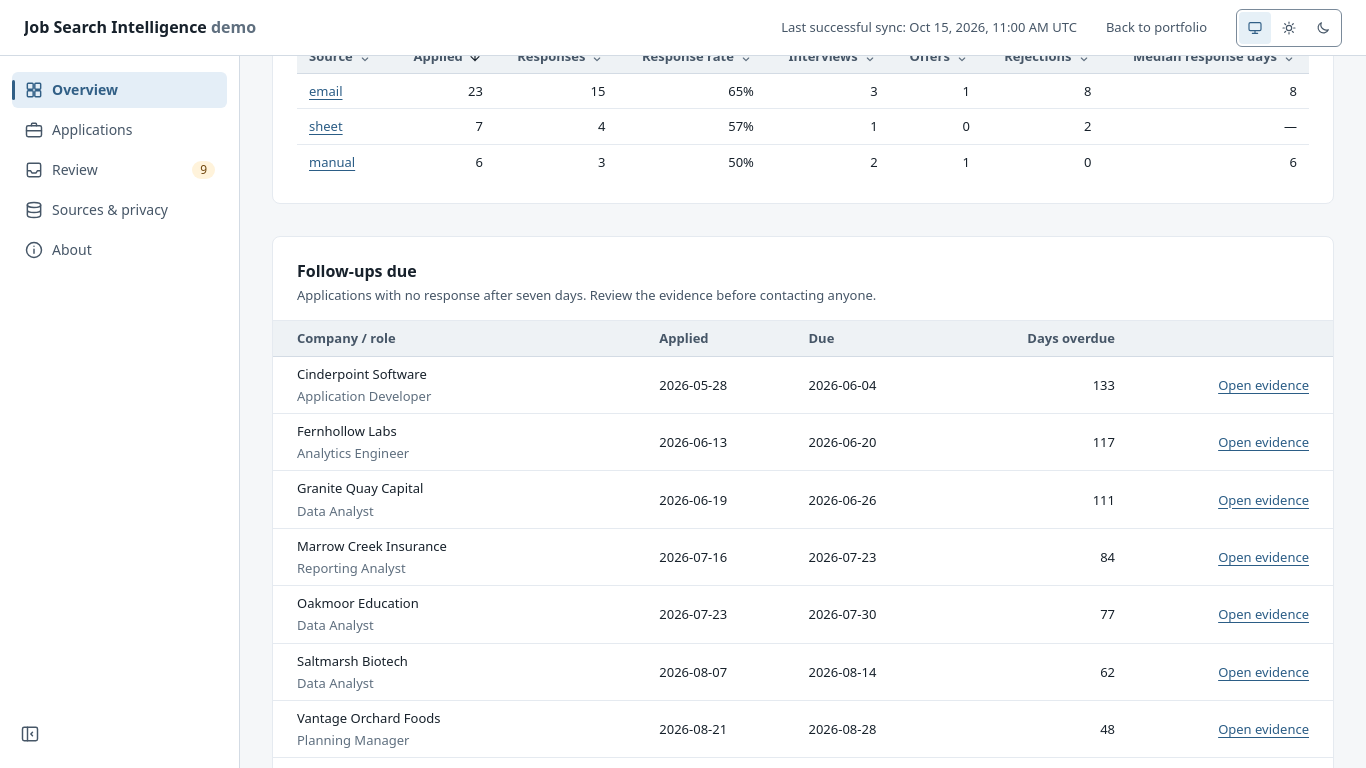
Scenario: overview › opens follow-up evidence in the matching application
(page scrolled)
Click the link "Open evidence" in the row of "Cinderpoint Software" at {"x": 1264, "y": 385}, box [1218,376,1309,394]
(page scrolled)
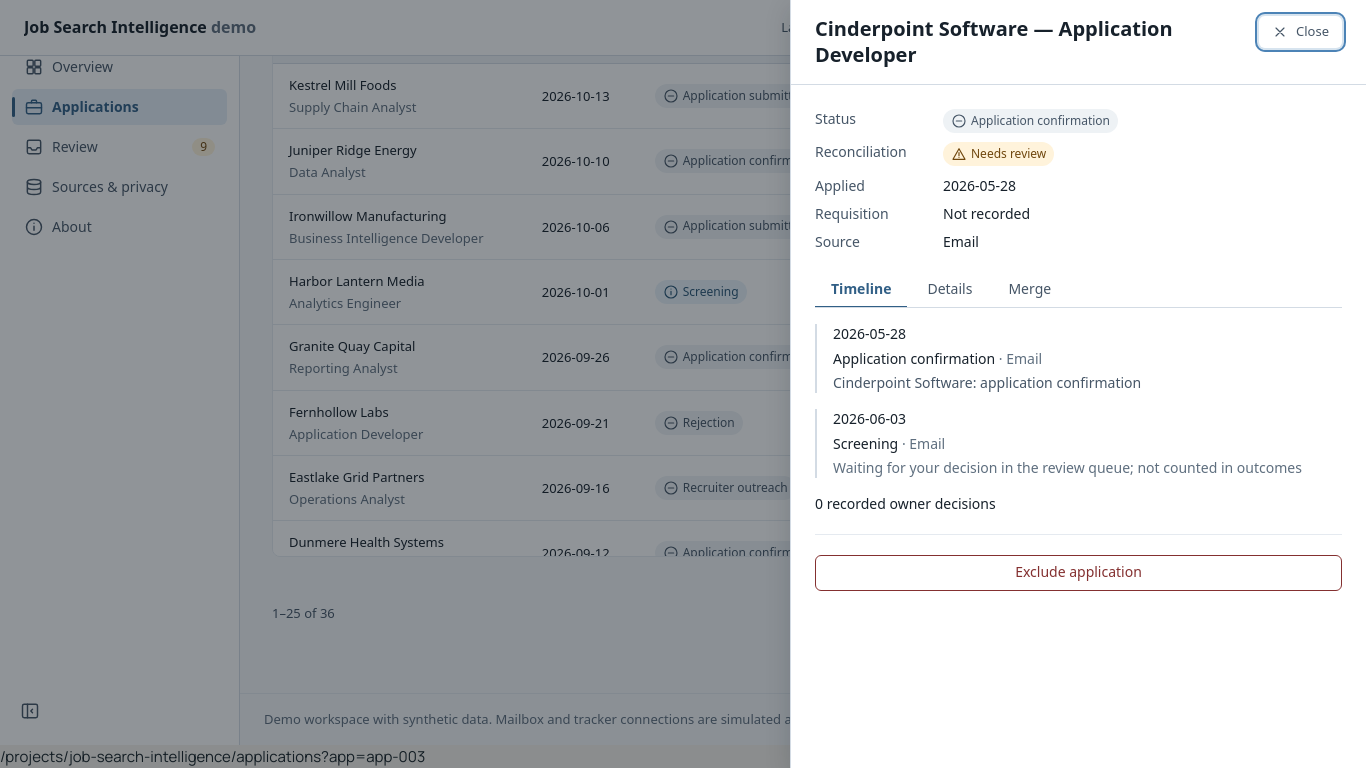
Now the dialog is shown, box [790,0,1365,767]
